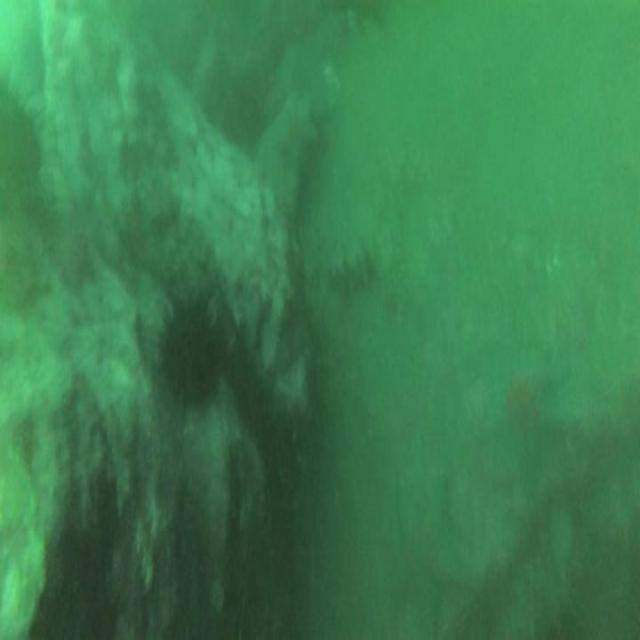echinus: (155, 286, 233, 412), (0, 68, 48, 191)
holothurian: (324, 244, 380, 304)
starfish: (481, 343, 579, 496)
